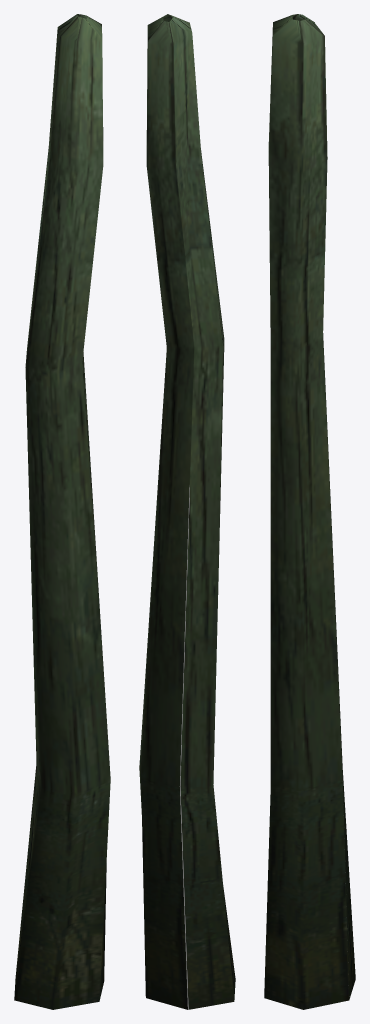
Rendered from stam.obj.
The picture shows the model from 3 angles, left to right: view 1: azimuth 30°, elevation 25°; view 2: azimuth 210°, elevation 25°; view 3: azimuth 270°, elevation 25°; orthographic projection.
Parts seen in each view (by area): view 1: stam; view 2: stam; view 3: stam.
Part boxes in pixels (x1=…): stam: x1=14, y1=14, x2=110, y2=1009; stam: x1=139, y1=14, x2=235, y2=1009; stam: x1=264, y1=14, x2=355, y2=1009.
Bounding box in the file's own units: 13.39 × 136 × 11.54.
Materials: 1 (1 with a texture image).
